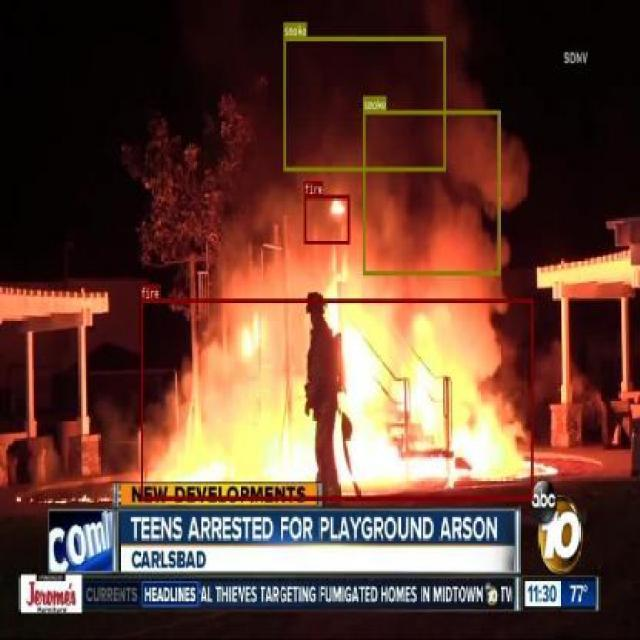Fire: (141, 298, 534, 498), (303, 194, 349, 243)
Smoke: (283, 35, 446, 171), (363, 111, 499, 274)
